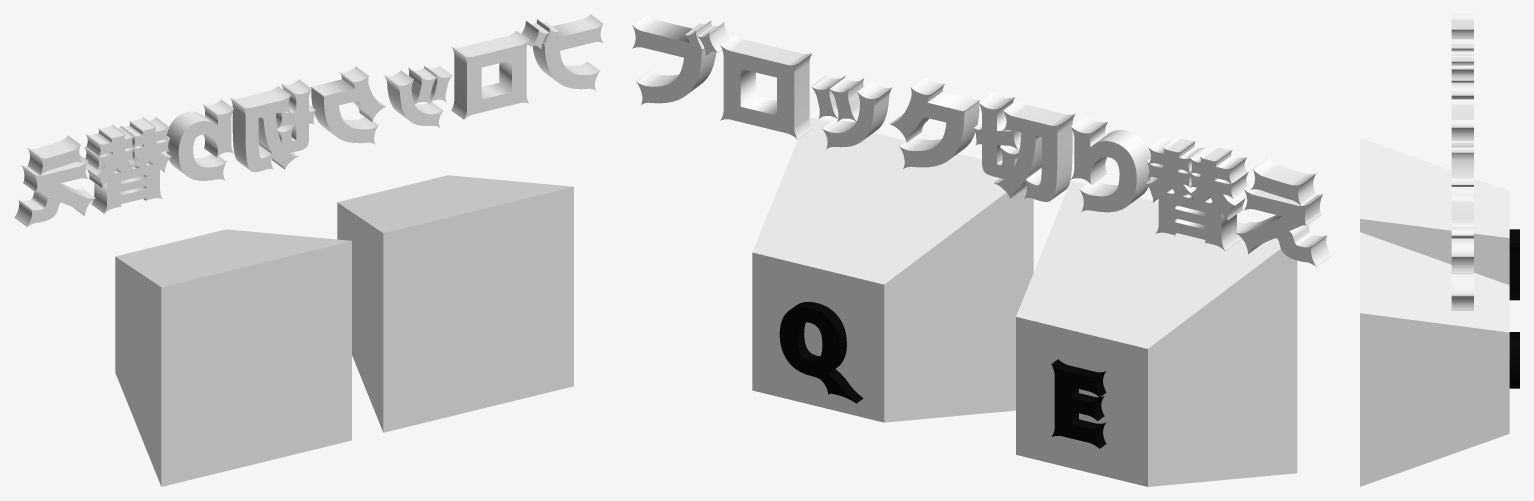
File: QEkey.obj
The picture shows the model from 3 angles, left to right: view 1: azimuth 30°, elevation 25°; view 2: azimuth 150°, elevation 25°; view 3: azimuth 270°, elevation 25°; orthographic projection. The views are drawn at different scales.
Parts seen in each view (by area): view 1: 立方体.001; view 2: 立方体.001; view 3: 立方体.001.
Boxes of the visible parts, x1,y1,x2,y2 form: 立方体.001: [14, 14, 603, 486]; 立方体.001: [632, 14, 1331, 486]; 立方体.001: [1360, 14, 1519, 486].
Size of the model in its own units: 5.19 by 2.7 by 1.43.
1 material, 1 textured.
